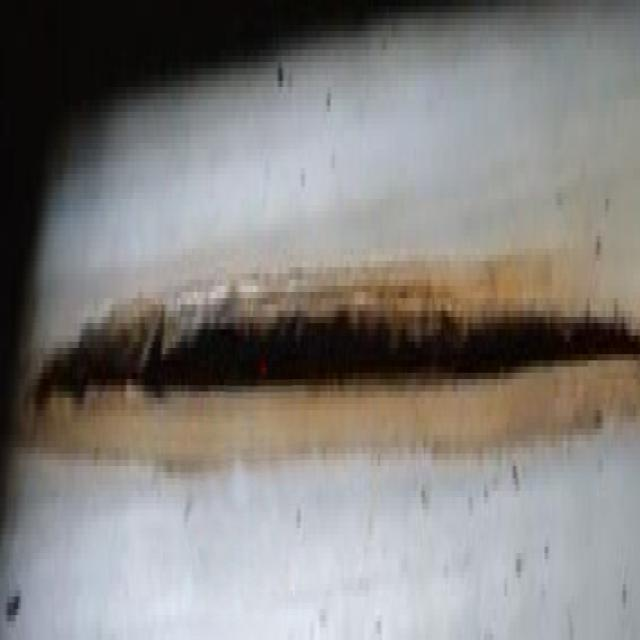Tear: (40, 178, 632, 476)
